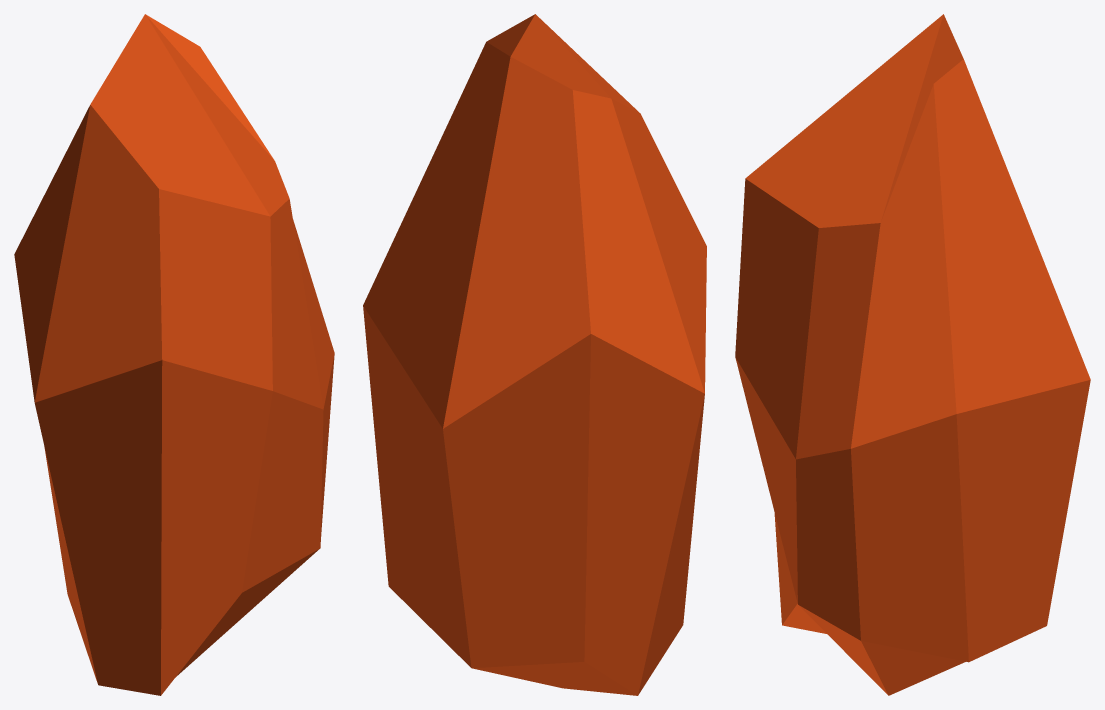
Rendered from lowTierCrystal.fbx.
3 views of the same model, side by side, from view 1: azimuth 30°, elevation 25°; view 2: azimuth 150°, elevation 25°; view 3: azimuth 270°, elevation 25° (orthographic). The views are drawn at different scales.
Parts seen in each view (by area): view 1: Cube; view 2: Cube; view 3: Cube.
Boxes of the visible parts, x1,y1,x2,y2 form: Cube: [14, 14, 334, 695]; Cube: [363, 14, 706, 695]; Cube: [735, 14, 1090, 695].
Size of the model in its own units: 49.53 by 106 by 50.2.
